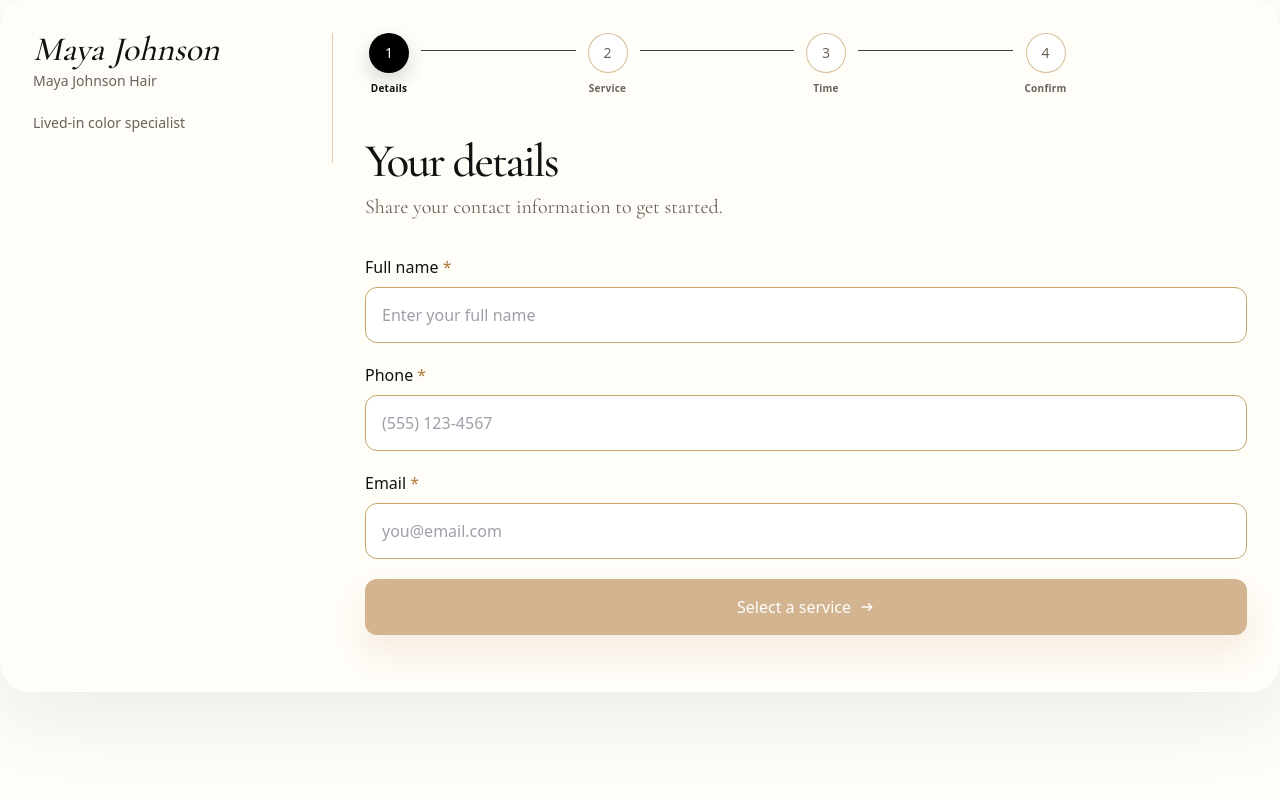
BookingFlow › hides booking inquiry when the stylist has disabled it
The image size is (1280, 800).
Type "Jane Smith" into the field with placeholder "Enter your full name" at (806, 315), box [365,287,1247,343]
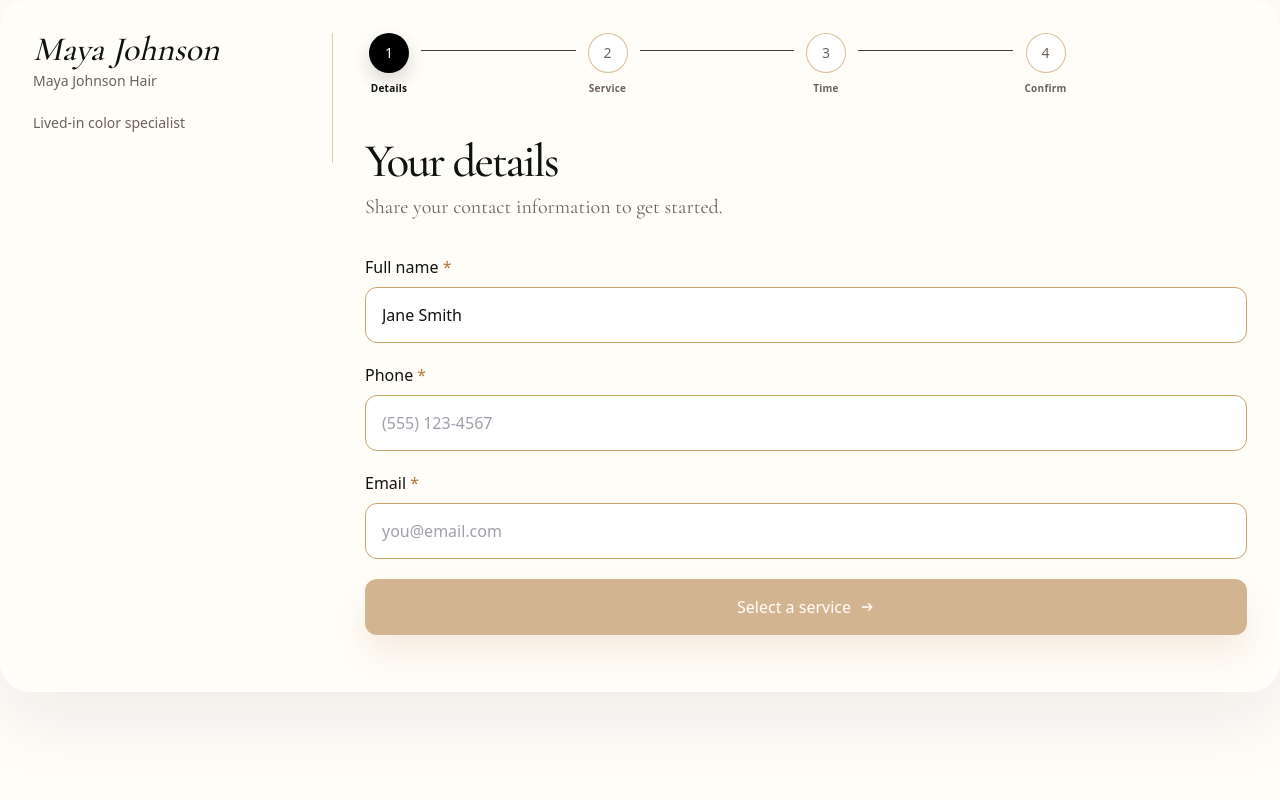
Type "(720) 555-0103" into the field with placeholder "(555) 123-4567" at (806, 423), box [365,395,1247,451]
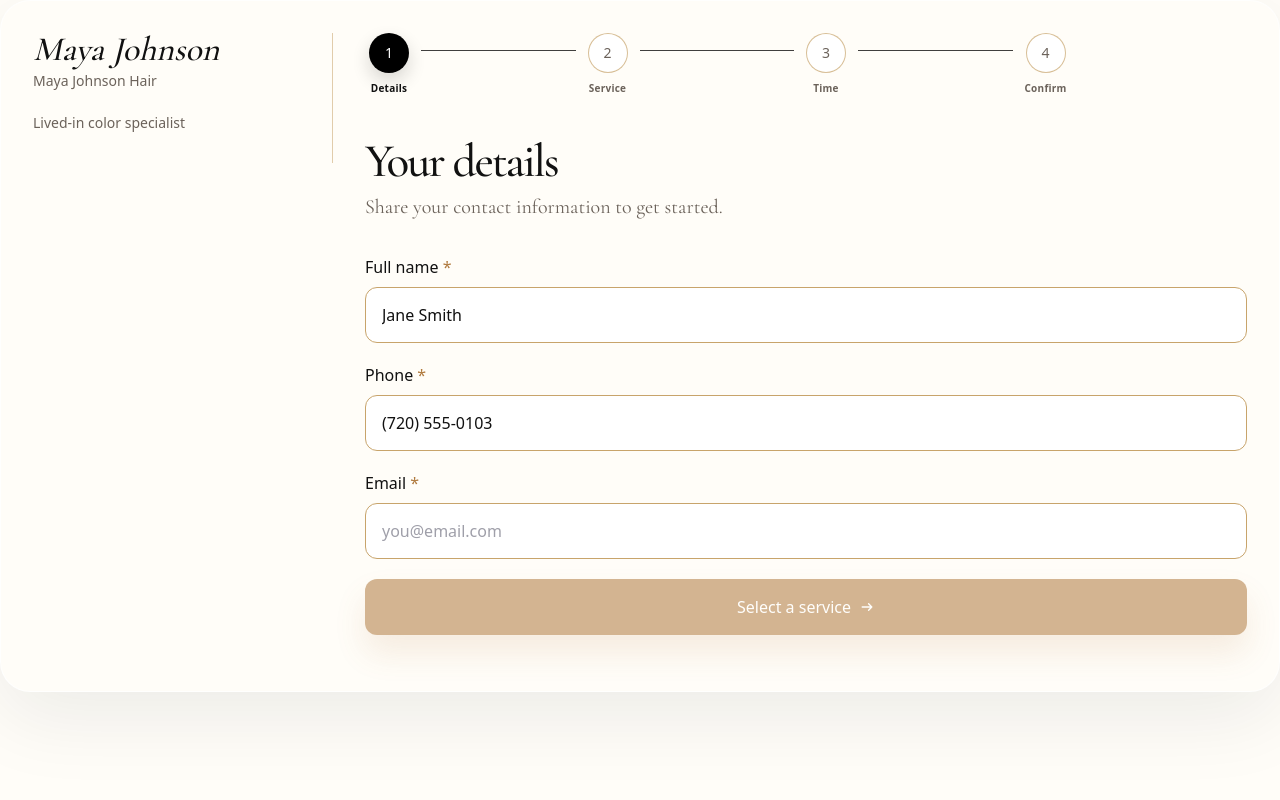
Type "jane@example.com" into the field with placeholder "you@email.com" at (806, 531), box [365,503,1247,559]
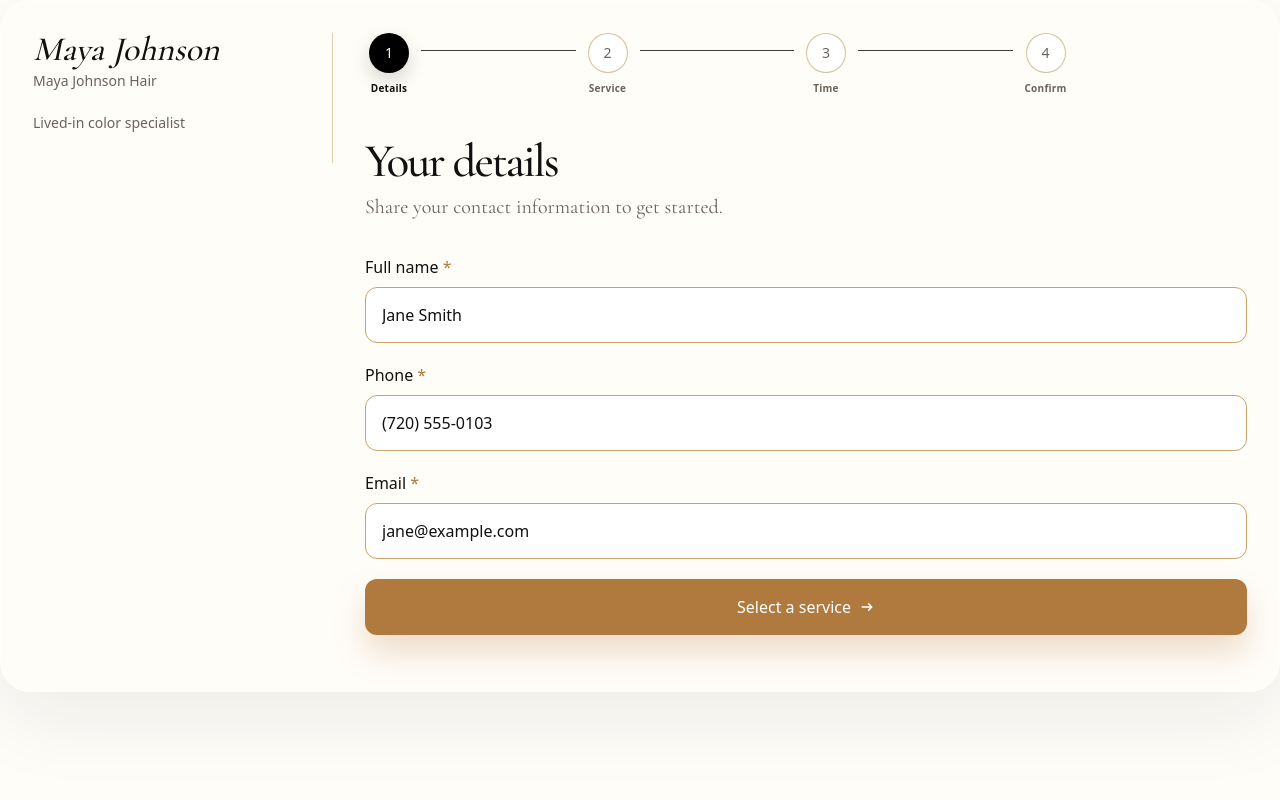
Click the button "Select a service" at (806, 607), box [365,579,1247,635]
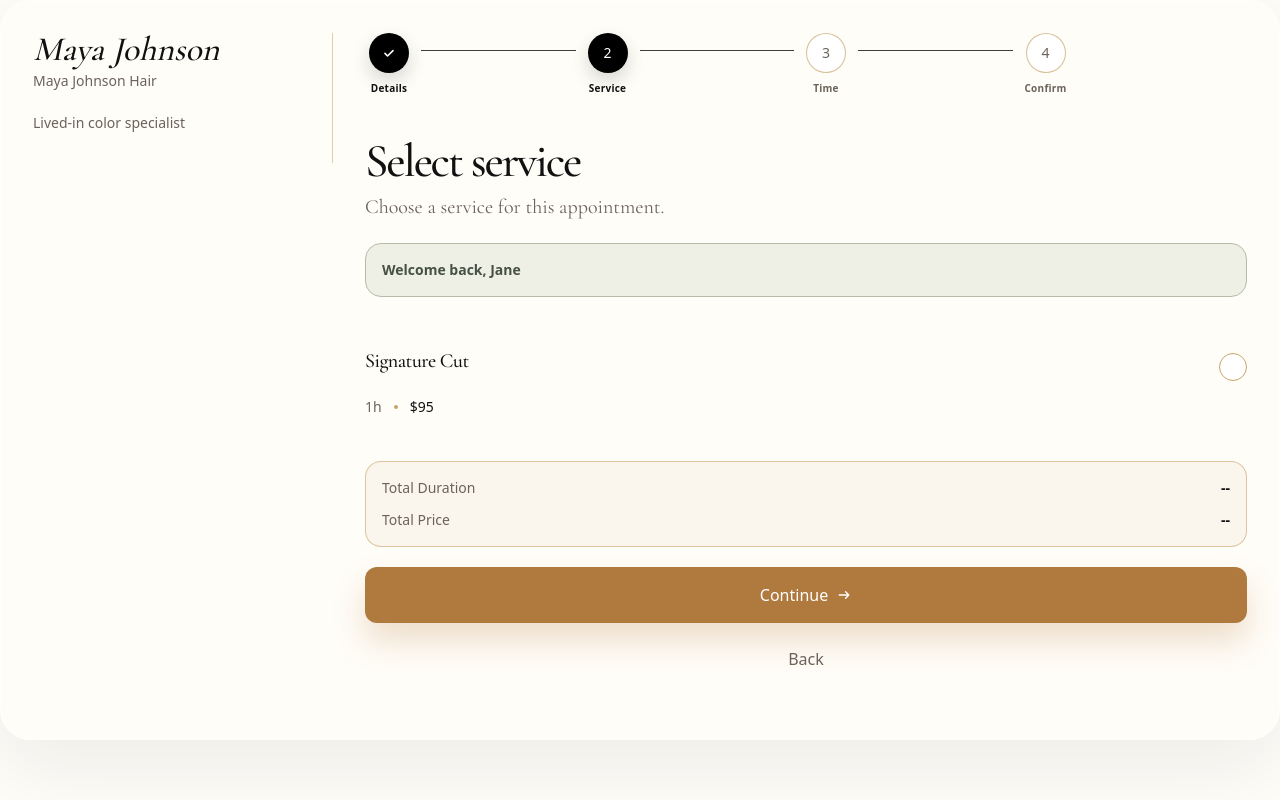
Expected: the field with placeholder "Enter your full name" is not shown
Expected: the heading "Select service" is shown, [365,133,580,189]
